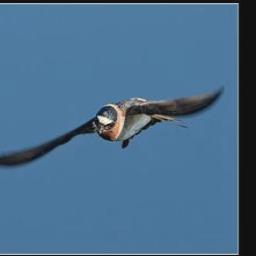Swallow: (0, 80, 222, 165)
